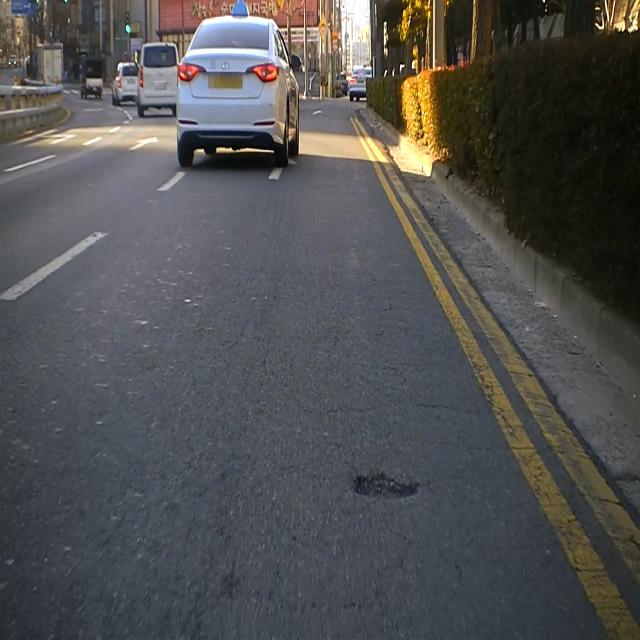Pothole: (348, 462, 425, 515)
